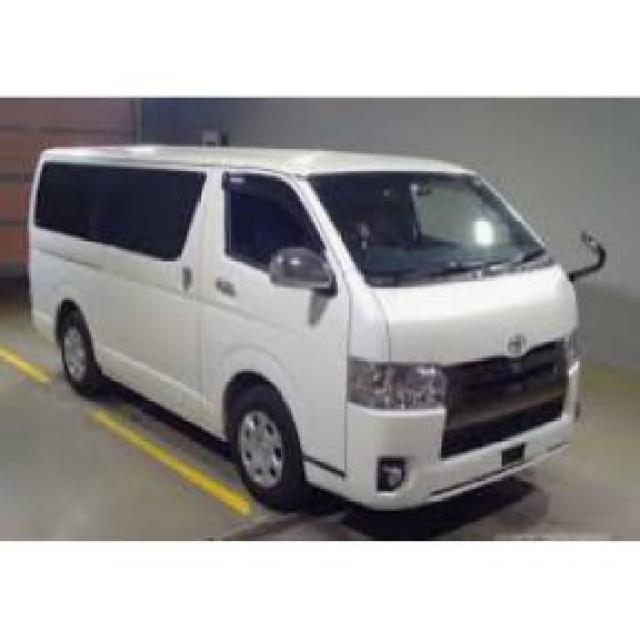Van: (27, 139, 591, 508)
